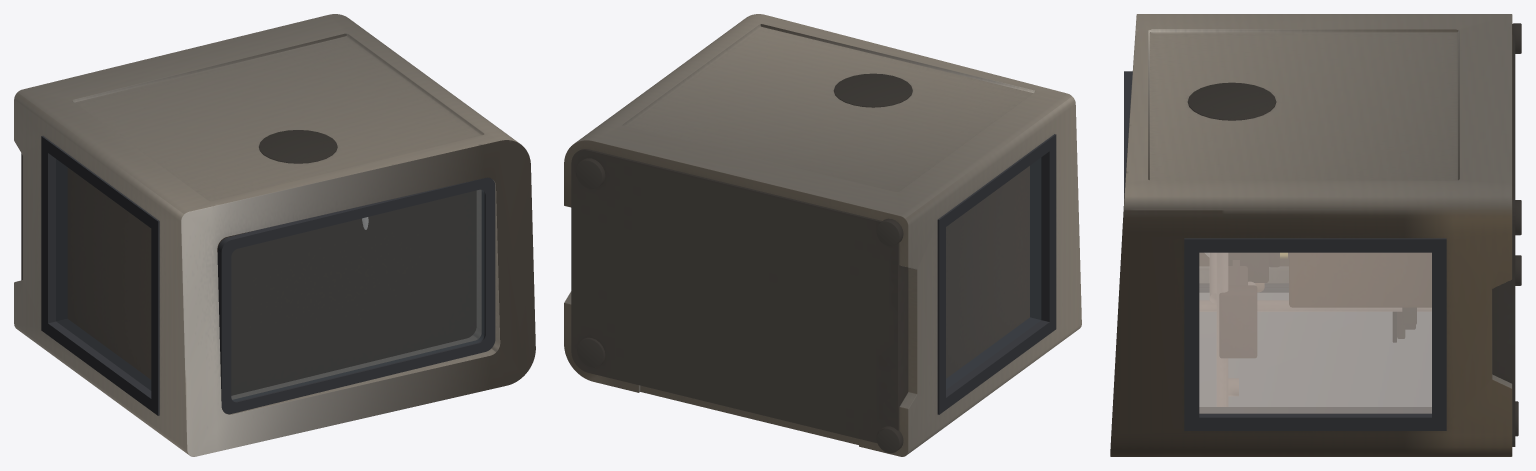
The model's file is deltrol_p2s_explorer_v11.glb.
The picture shows the model from 3 angles, left to right: view 1: azimuth 30°, elevation 25°; view 2: azimuth 150°, elevation 25°; view 3: azimuth 270°, elevation 25°; orthographic projection. The views are drawn at different scales.
Parts seen in each view (by area): view 1: unibody_shell, top_roof_glass, interior_ceiling_liner, left_glass_window, interior_left_back_baffle, top_rim_outer, left_window_gasket, rear_exhaust_shroud; view 2: unibody_shell, chassis_recessed_plinth, left_glass_window, interior_left_back_baffle, left_window_gasket, rear_exhaust_shroud, chassis_foot_2, chassis_foot_1, chassis_foot_3, chassis_foot_0; view 3: unibody_shell, right_glass_sheen, right_glass_window, right_window_gasket, interior_rear_electronics_box, chassis_recessed_plinth, x_gantry_crossbeam, x_guide_front, rear_exhaust_shroud, toolhead_chassis, top_rim_outer, bed_heater_block.
Part boxes in pixels (<box>): unibody_shell: <box>14,14,535,456</box>; top_roof_glass: <box>231,189,484,401</box>; interior_ceiling_liner: <box>217,190,476,395</box>; left_glass_window: <box>56,159,151,390</box>; interior_left_back_baffle: <box>67,168,151,379</box>; top_rim_outer: <box>217,177,495,414</box>; left_window_gasket: <box>41,136,159,415</box>; rear_exhaust_shroud: <box>259,130,337,163</box>; unibody_shell: <box>564,14,1081,456</box>; chassis_recessed_plinth: <box>571,149,908,443</box>; left_glass_window: <box>946,158,1041,389</box>; interior_left_back_baffle: <box>946,166,1029,378</box>; left_window_gasket: <box>937,134,1056,414</box>; rear_exhaust_shroud: <box>833,73,912,107</box>; chassis_foot_2: <box>575,158,605,188</box>; chassis_foot_1: <box>577,337,605,367</box>; chassis_foot_3: <box>876,218,903,246</box>; chassis_foot_0: <box>876,426,903,453</box>; unibody_shell: <box>1110,14,1512,456</box>; right_glass_sheen: <box>1199,253,1431,413</box>; right_glass_window: <box>1199,253,1431,412</box>; right_window_gasket: <box>1184,238,1446,430</box>; interior_rear_electronics_box: <box>1289,253,1431,307</box>; chassis_recessed_plinth: <box>1492,35,1515,446</box>; x_gantry_crossbeam: <box>1219,260,1256,357</box>; x_guide_front: <box>1199,253,1431,406</box>; rear_exhaust_shroud: <box>1187,82,1276,120</box>; toolhead_chassis: <box>1228,253,1268,282</box>; top_rim_outer: <box>1124,71,1132,199</box>; bed_heater_block: <box>1397,308,1416,338</box>.
Size of the model in its own units: 0.426 by 0.2955 by 0.3892.
Materials: 10 (6 with a texture image).
